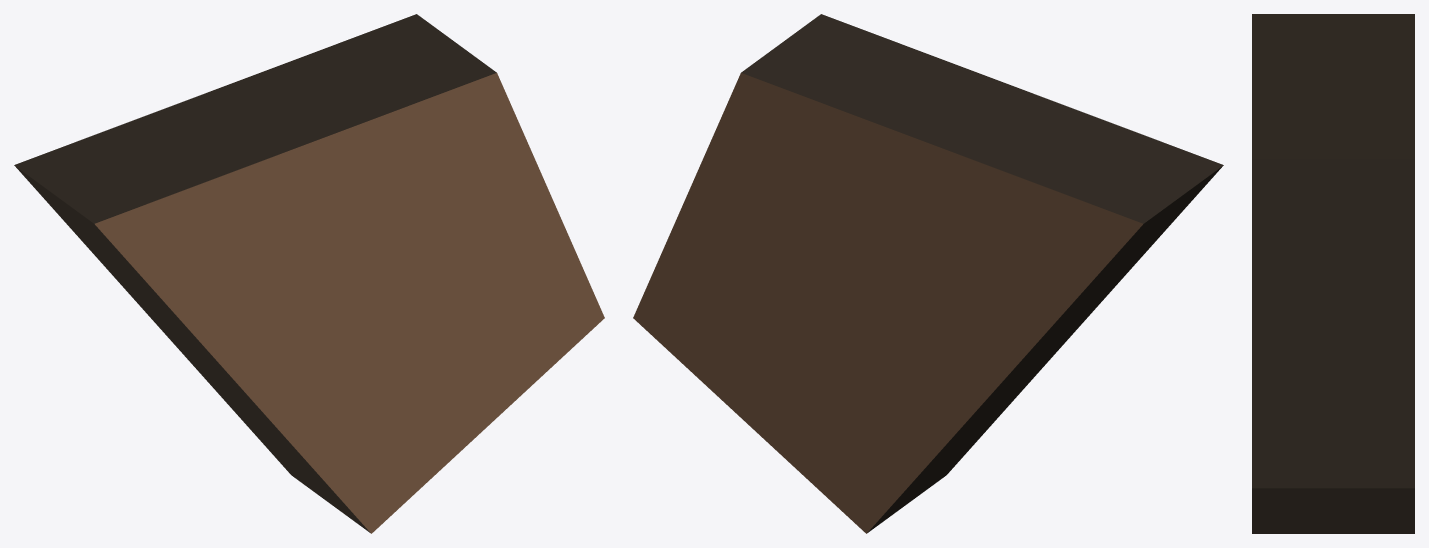
The model's file is SM_DoorShard_03_27.fbx.
3 views of the same model, side by side, from view 1: azimuth 30°, elevation 25°; view 2: azimuth 150°, elevation 25°; view 3: azimuth 270°, elevation 25° (orthographic).
Visible parts, largest first — view 1: SM_DoorShard_03_27; view 2: SM_DoorShard_03_27; view 3: SM_DoorShard_03_27.
Part boxes in pixels (x1=…): SM_DoorShard_03_27: x1=14, y1=14, x2=604, y2=533; SM_DoorShard_03_27: x1=633, y1=14, x2=1223, y2=533; SM_DoorShard_03_27: x1=1252, y1=14, x2=1414, y2=533.
Bounding box in the file's own units: 58.75 × 16 × 47.35.
